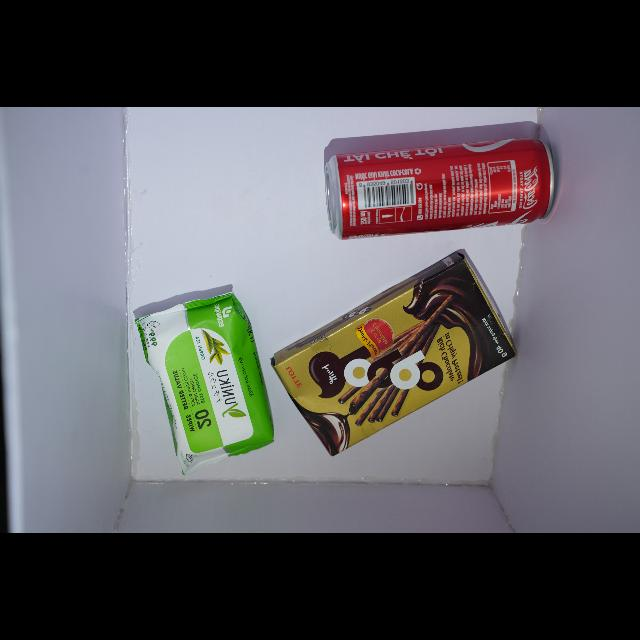banh_toppo_socola: (271, 252, 517, 456)
coca_cola: (135, 293, 274, 474), (325, 138, 554, 239)
